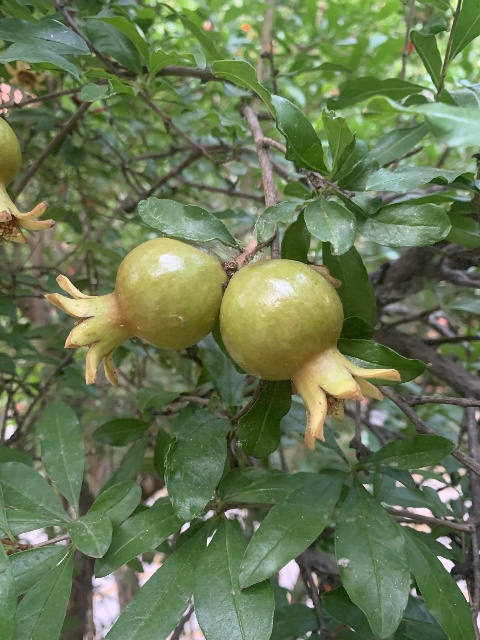mid-growth: (217, 259, 401, 451), (45, 239, 225, 386)
